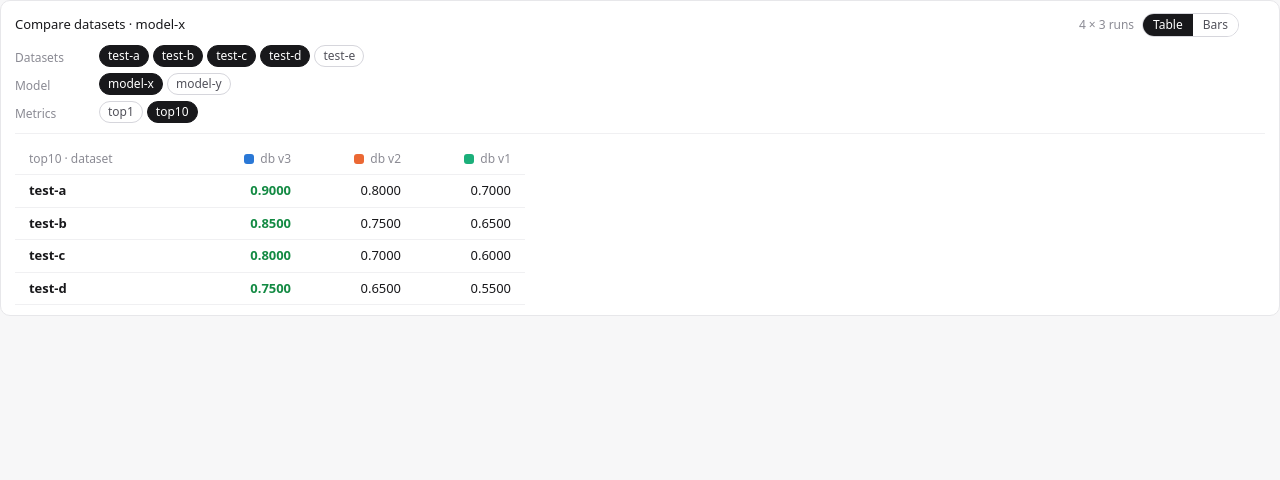
Test case: ComparePanel › Bars: grouped bars per metric with a legend; Table switches back
Click the button "Bars". click: coordinates (1215, 25)
box: [1193,14,1238,36]
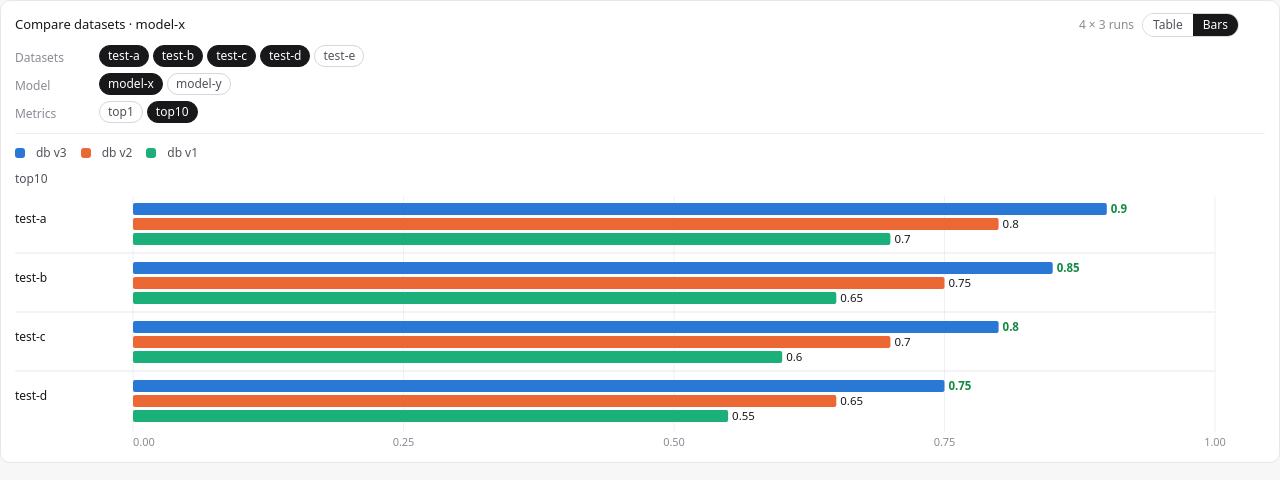
Expected: the element with class "legend" reads "db v3 db v2 db v1", [15,144,198,161]
Expected: the table is gone
Click the button "Table". click: coordinates (1168, 25)
box: [1143,14,1193,36]
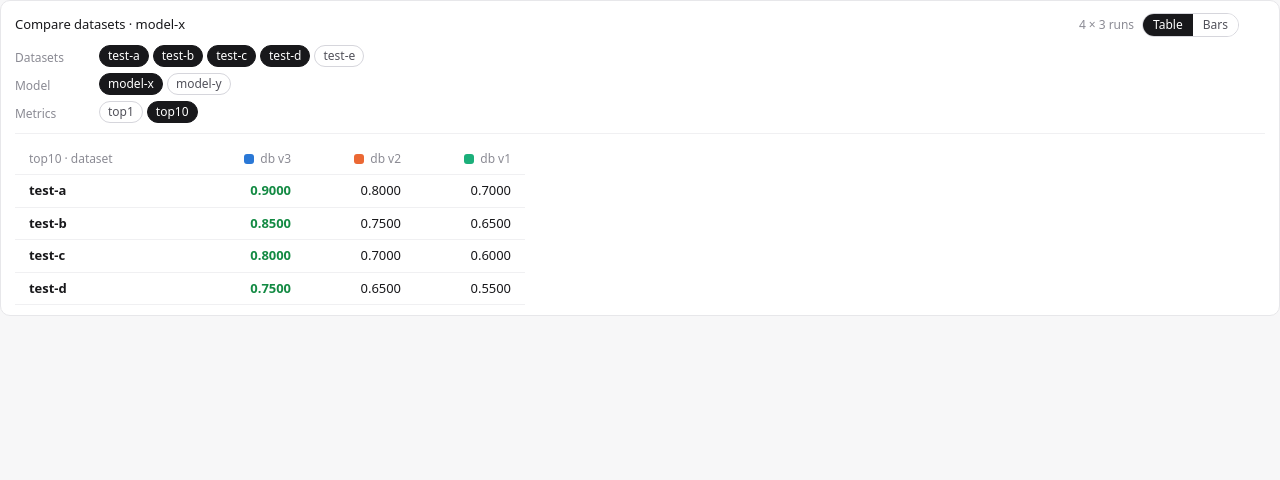
Expected: the table named "Compare table" is shown, [15,144,525,305]
